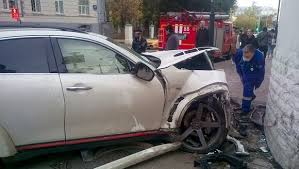car: (3, 31, 229, 152)
